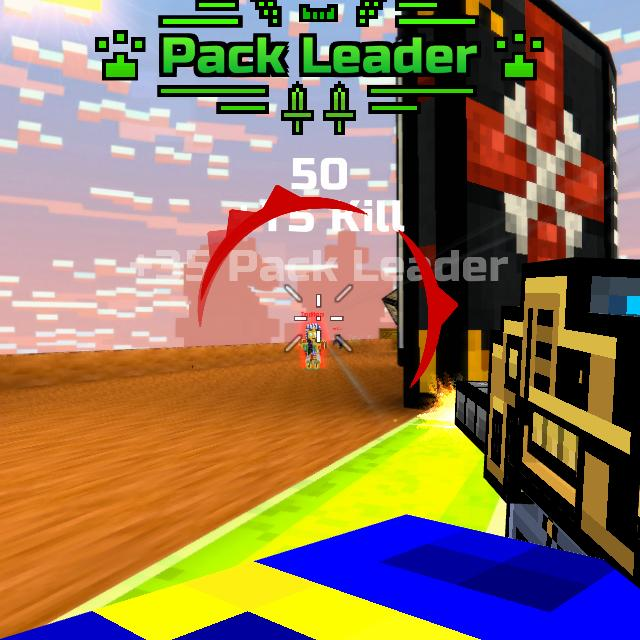Enemy: (302, 323, 329, 371)
